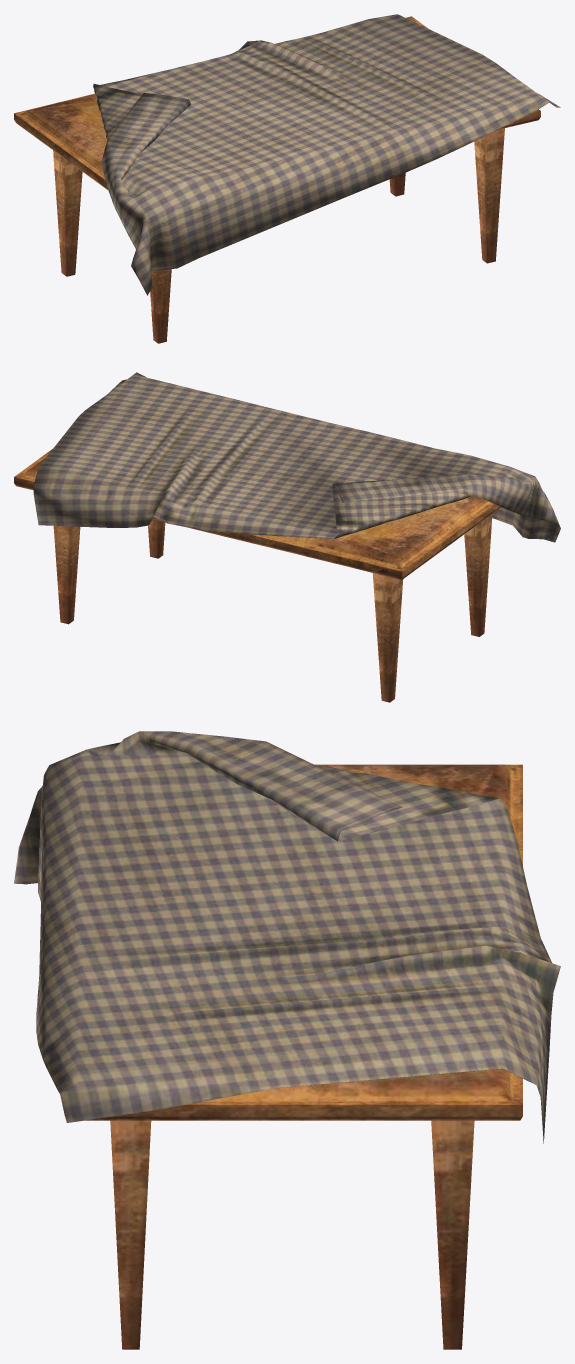
Rendered from table.glb.
3 views of the same model, one above another, from view 1: azimuth 30°, elevation 25°; view 2: azimuth 150°, elevation 25°; view 3: azimuth 270°, elevation 25° (orthographic). The views are drawn at different scales.
Parts seen in each view (by area): view 1: dining_table_cloth, dining_table; view 2: dining_table_cloth, dining_table; view 3: dining_table_cloth, dining_table.
Boxes of the visible parts, <box> form: dining_table_cloth: <box>93,14,560,295</box>; dining_table: <box>14,16,540,343</box>; dining_table_cloth: <box>33,372,560,542</box>; dining_table: <box>14,449,501,702</box>; dining_table_cloth: <box>14,731,560,1143</box>; dining_table: <box>85,764,522,1349</box>.
Bounding box in the file's own units: 2.26 × 0.877 × 1.39.
1 material, 1 textured.
